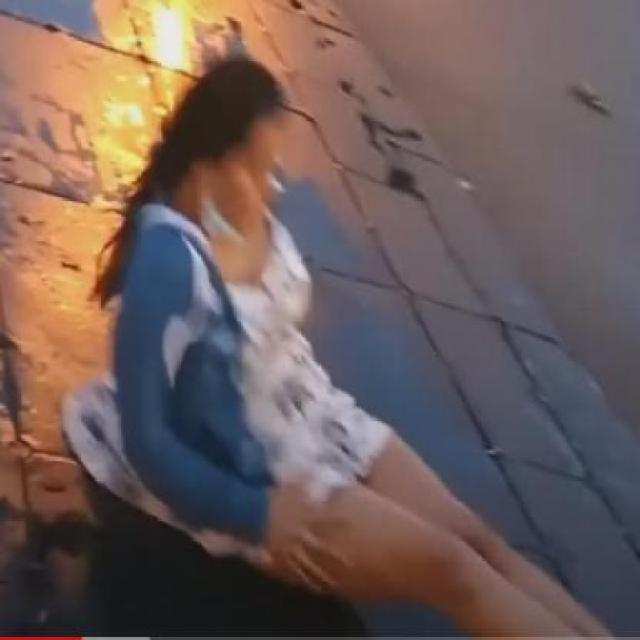fall: (105, 68, 606, 640)
